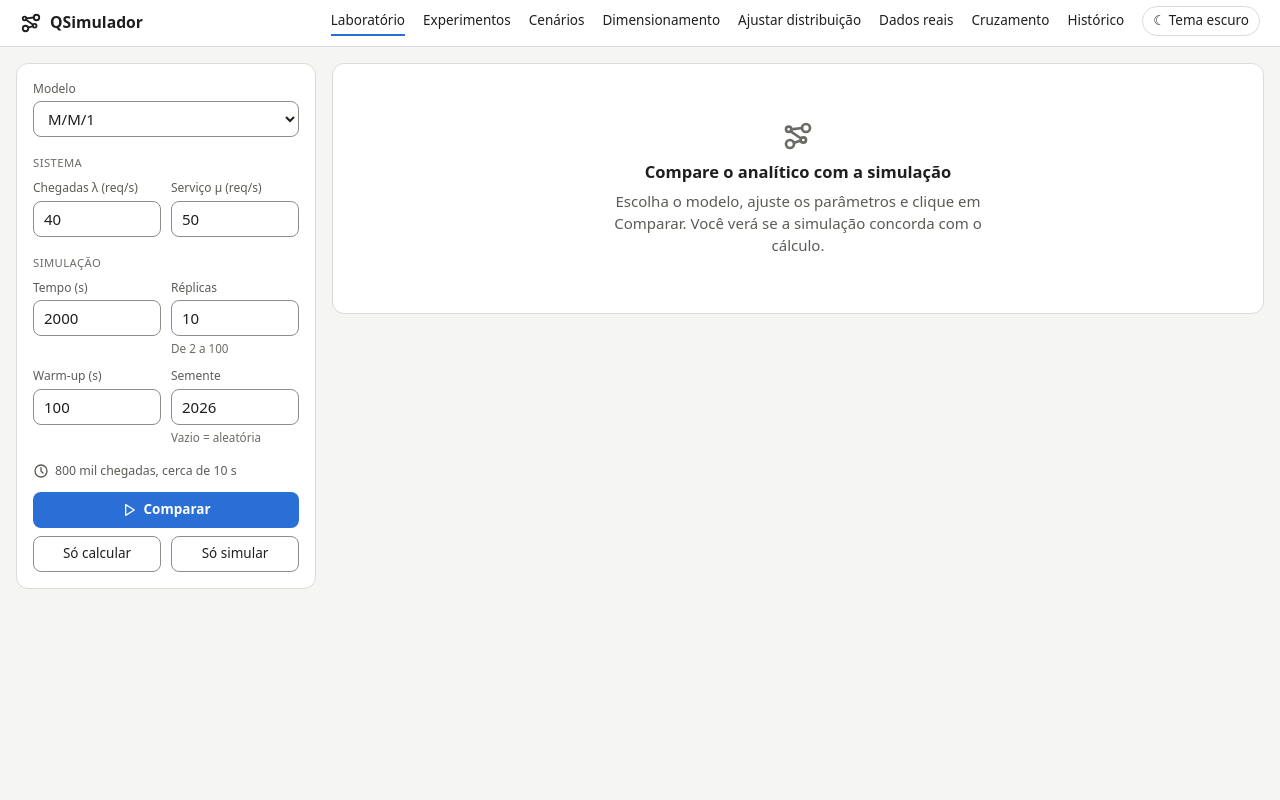
Test: aba Dimensionamento › abre com o formulário e herda modelo e valores do Laboratório
Step 1. Select "M/M/c" in the dropdown labelled "Modelo" → (166, 119), box x1=33 y1=101 x2=299 y2=137
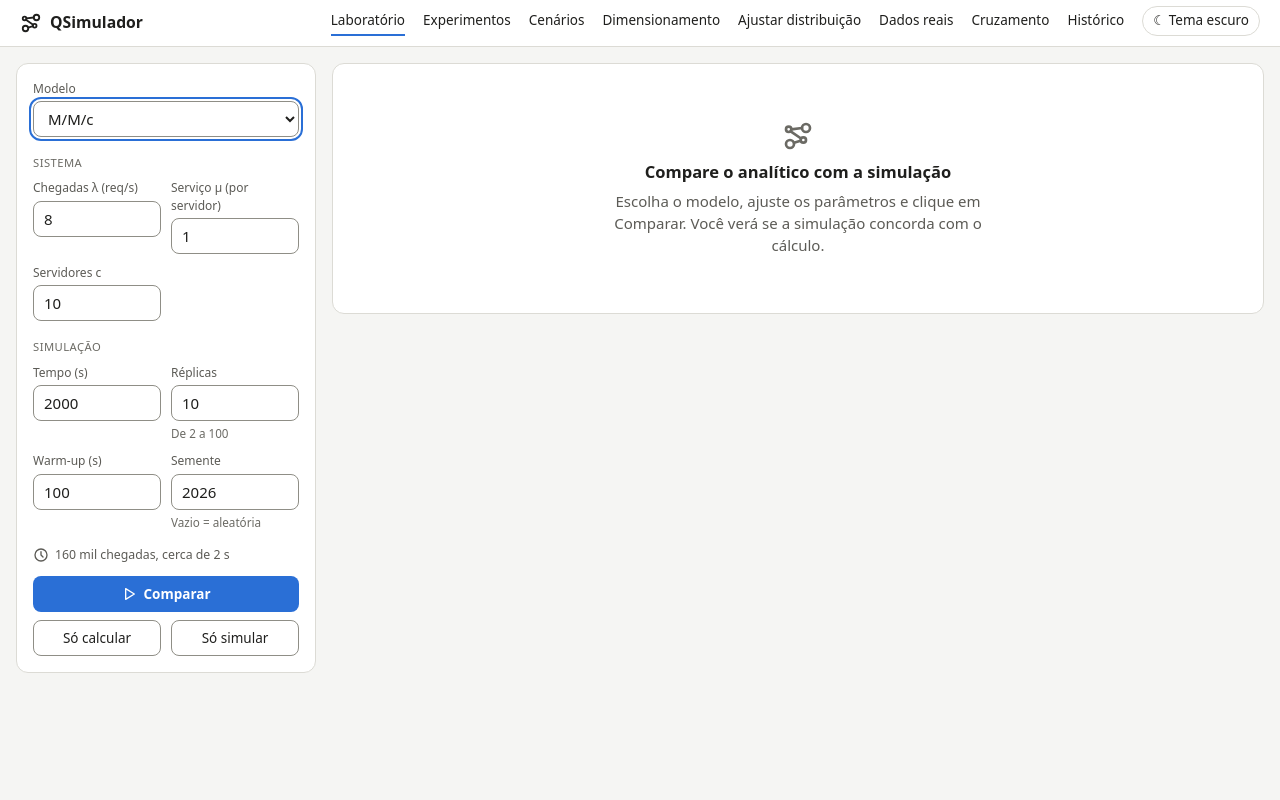
Step 2. Click the button "Dimensionamento" → click(661, 23), box x1=602 y1=10 x2=720 y2=36
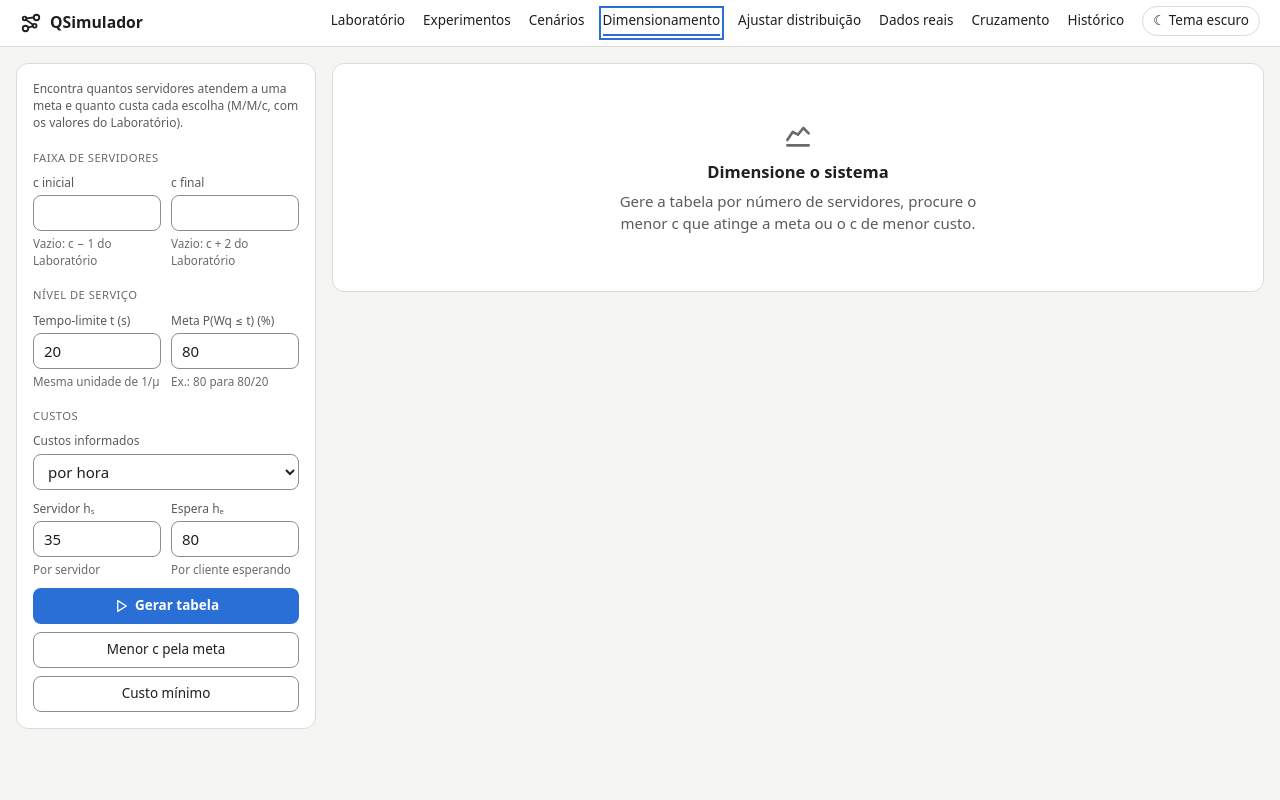
Now the text "M/M/c, com os valores do Laboratório" is shown, box x1=33 y1=80 x2=299 y2=132
Now the field labelled "Tempo-limite t (s)" holds "20", box x1=33 y1=333 x2=161 y2=369
Now the field labelled "Meta P(Wq ≤ t) (%)" holds "80", box x1=171 y1=333 x2=299 y2=369
